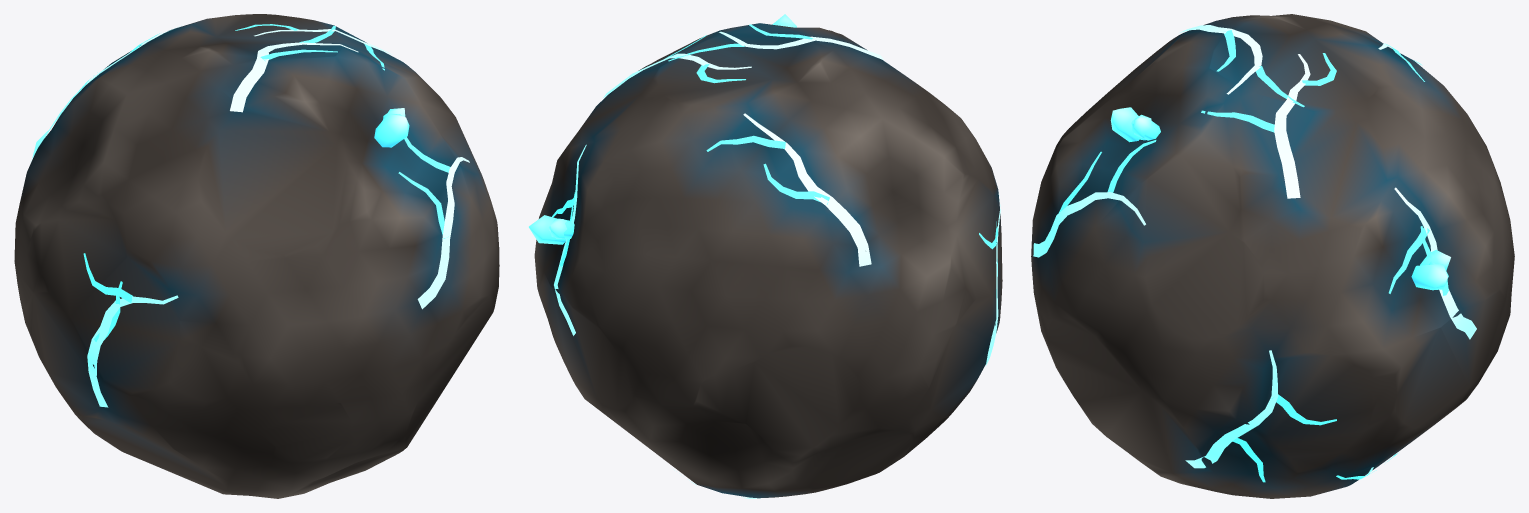
Rendered from boulder_space.glb.
The picture shows the model from 3 angles, left to right: view 1: azimuth 30°, elevation 25°; view 2: azimuth 150°, elevation 25°; view 3: azimuth 270°, elevation 25°; orthographic projection. The views are drawn at different scales.
Parts seen in each view (by area): view 1: shell; view 2: shell; view 3: shell.
Boxes of the visible parts, x1,y1,x2,y2 form: shell: (14,14,499,498); shell: (529,14,1002,498); shell: (1031,14,1514,498).
Bounding box in the file's own units: 1.79 × 1.8 × 1.8.
